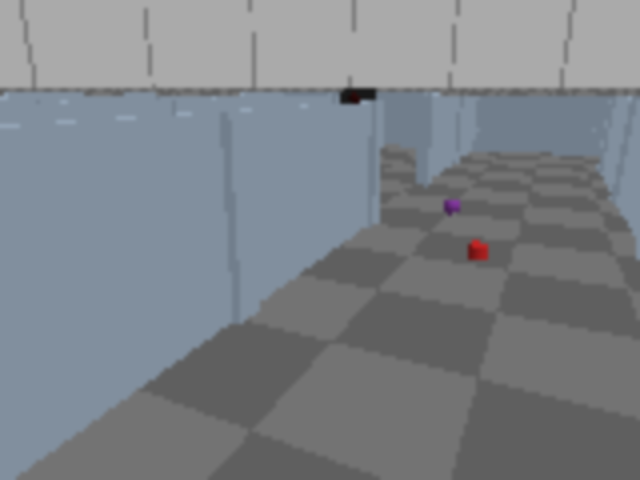puck: (440, 196, 462, 217), (469, 242, 487, 260)
